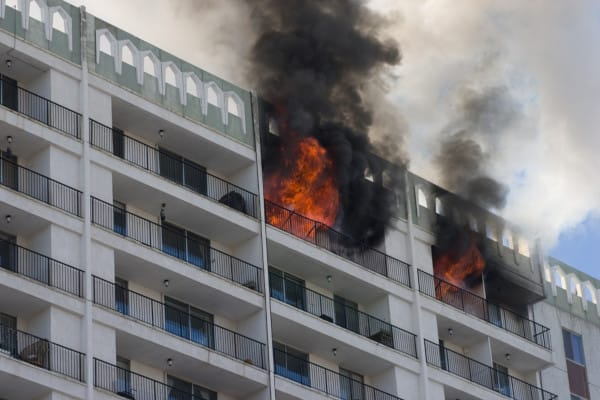fire: (266, 136, 340, 240), (436, 239, 487, 298)
smoke: (237, 5, 408, 134), (430, 72, 517, 233), (345, 138, 416, 244)
